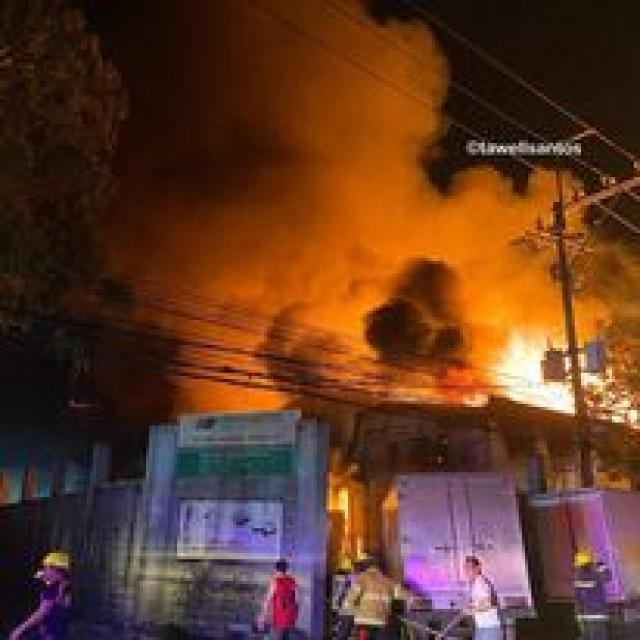Fire: (494, 324, 622, 422), (314, 453, 374, 561)
Smoke: (121, 0, 640, 256), (354, 260, 478, 394)
